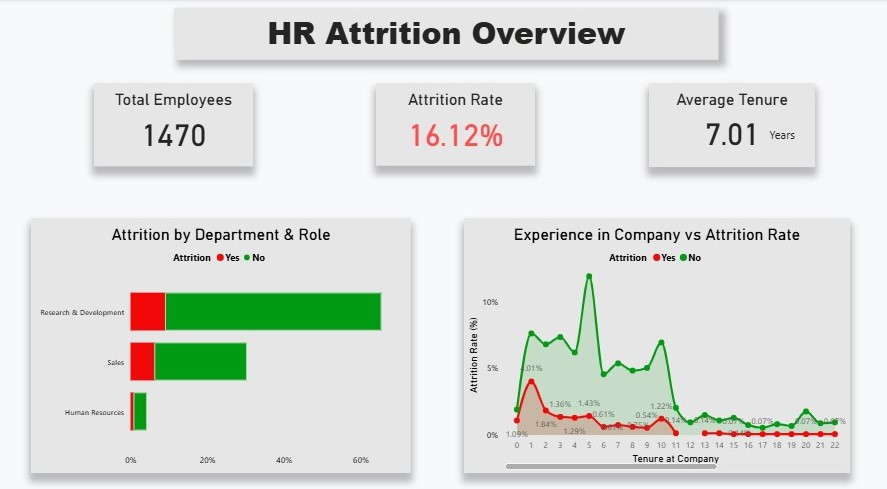

The page's visual inventory and layout, read from the dashboard file:
{"tool":"powerbi","page":{"name":"OverView","canvas":[1280,720],"ordinal":0},"visuals":[{"type":"card","title":"Total Employees","fields":{"Values":["Measured.total employee"]},"box":[136.7,119.3,226.9,119.3],"z":0},{"type":"card","title":"Attrition Rate","fields":{"Values":["Measured.attrition rate"]},"box":[539.4,119.9,226.9,118.4],"z":1000},{"type":"card","title":"Average Tenure","fields":{"Values":["Measured.Avg Tenure"]},"box":[929,119.9,236.9,119.9],"z":2000},{"type":"barChart","title":"Attrition by Department & Role","fields":{"Category":["WA_Fn-UseC_-HR-Employee-Attrition.Department","WA_Fn-UseC_-HR-Employee-Attrition.JobRole"],"Series":["WA_Fn-UseC_-HR-Employee-Attrition.Attrition"],"Y":["Measured.total employee"]},"box":[47.1,312.5,542.3,363.9],"z":3000},{"type":"lineChart","title":"Experience in Company vs Attrition Rate","fields":{"Category":["WA_Fn-UseC_-HR-Employee-Attrition.YearsAtCompany"],"Y":["Measured.total employee"],"Series":["WA_Fn-UseC_-HR-Employee-Attrition.Attrition"]},"box":[665,312.5,550.8,363.9],"z":4000},{"type":"textbox","box":[250.9,12.8,776.7,73.7],"z":5000},{"type":"textbox","box":[1095.6,178.6,49.6,35.4],"z":6000}]}

Visuals, with their boxes in screenshot pixels (x1, y1, x2, y2), scaled from the page's 1280x720 canvas onto the 887x489 screenshot:
"Total Employees" card: <region>95, 81, 252, 162</region>
"Attrition Rate" card: <region>374, 81, 531, 162</region>
"Average Tenure" card: <region>644, 81, 808, 163</region>
"Attrition by Department & Role" barChart: <region>33, 212, 408, 459</region>
"Experience in Company vs Attrition Rate" lineChart: <region>461, 212, 843, 459</region>
textbox: <region>174, 9, 712, 59</region>
textbox: <region>759, 121, 794, 145</region>
